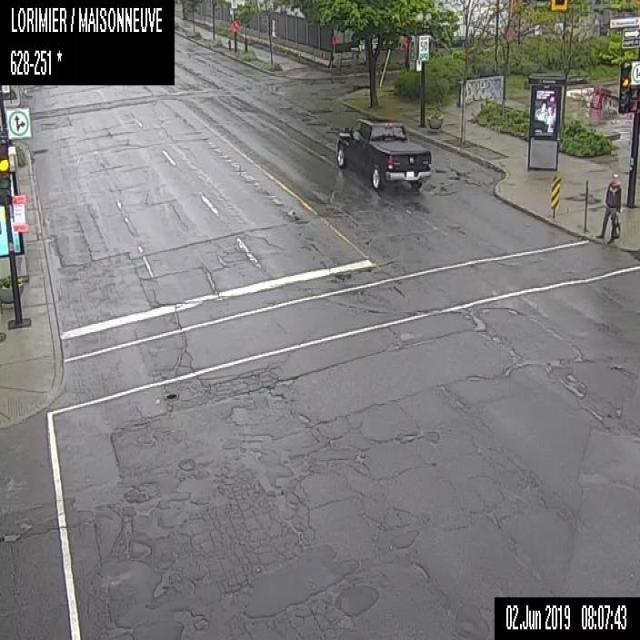pedestrian: (594, 171, 622, 245)
vehicle: (334, 114, 432, 190)
